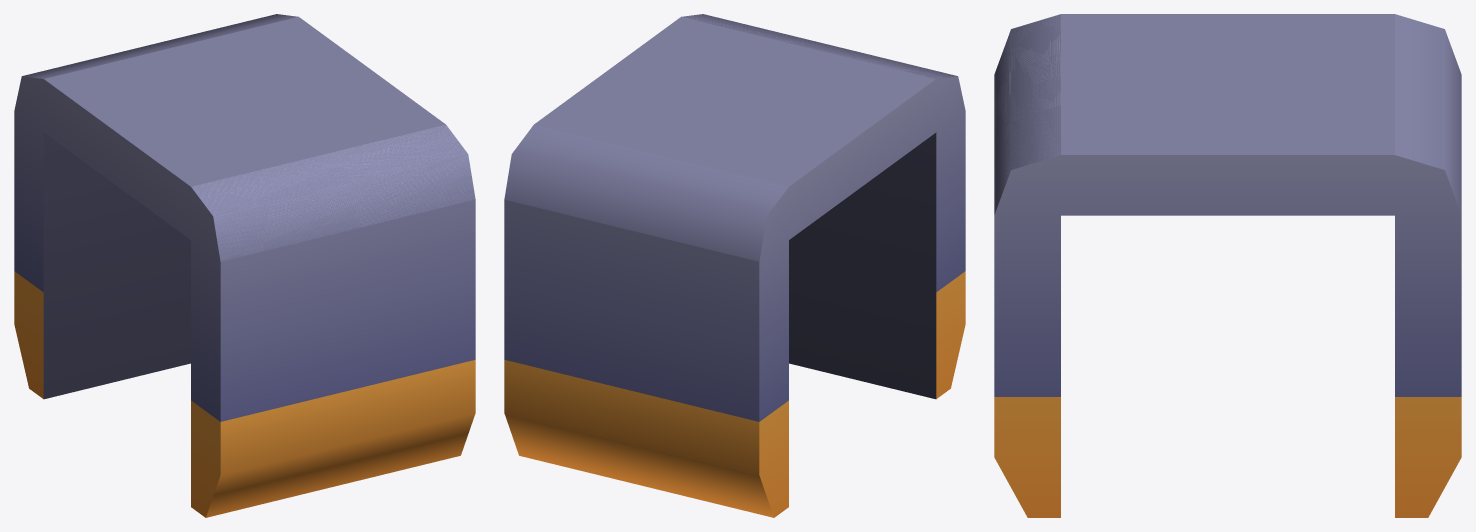
The model's file is cover-stripe.glb.
3 views of the same model, side by side, from view 1: azimuth 30°, elevation 25°; view 2: azimuth 150°, elevation 25°; view 3: azimuth 270°, elevation 25° (orthographic). The views are drawn at different scales.
Parts seen in each view (by area): view 1: cover-stripe; view 2: cover-stripe; view 3: cover-stripe.
Boxes of the visible parts, x1,y1,x2,y2 form: cover-stripe: (14,14,475,517); cover-stripe: (504,14,965,517); cover-stripe: (994,14,1461,517).
Size of the model in its own units: 1 by 1.2 by 1.4.
